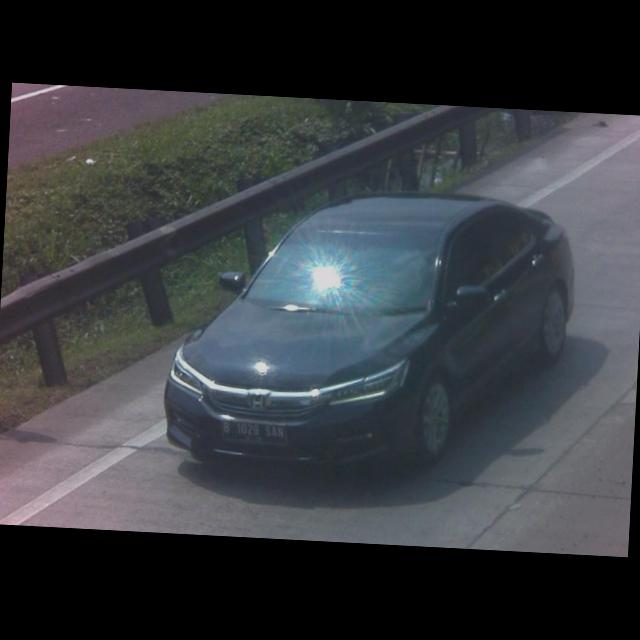plate: (220, 419, 290, 446)
